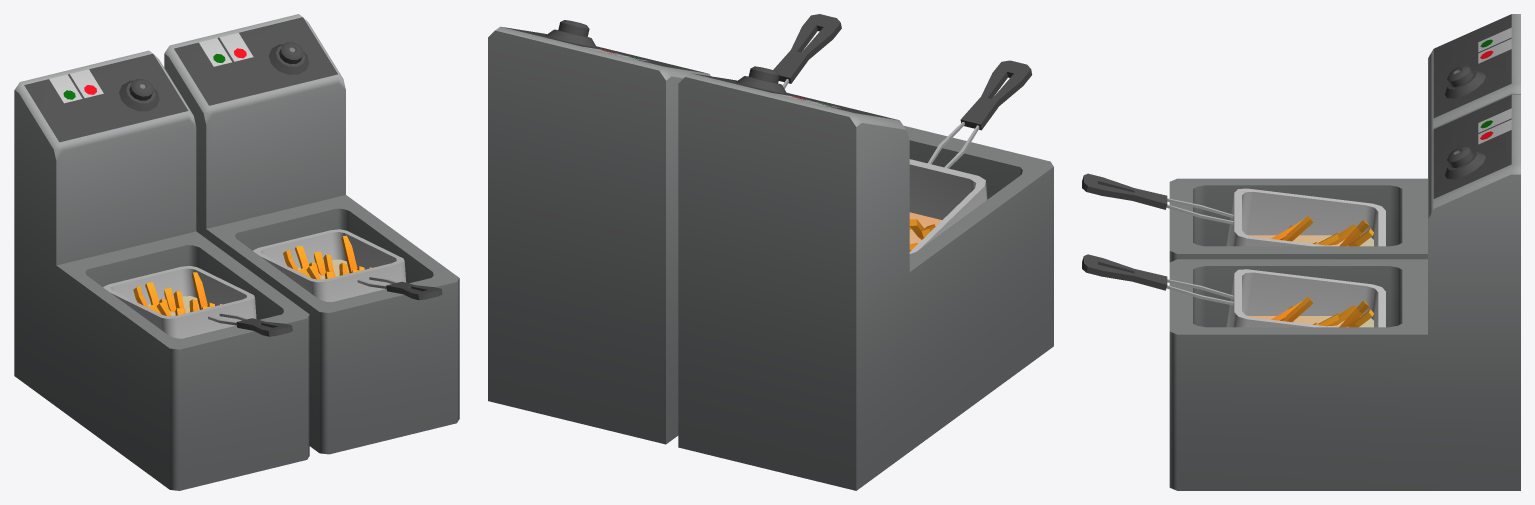
Rendered from Station Fries.fbx.
3 renders of one model, left to right at view 1: azimuth 30°, elevation 25°; view 2: azimuth 150°, elevation 25°; view 3: azimuth 270°, elevation 25°, orthographic. The views are drawn at different scales.
Parts seen in each view (by area): view 1: Station_Fries; view 2: Station_Fries; view 3: Station_Fries.
Boxes of the visible parts, left/top/right/bottom form: Station_Fries: left=14, top=14, right=459, bottom=490; Station_Fries: left=488, top=14, right=1053, bottom=490; Station_Fries: left=1082, top=14, right=1520, bottom=490.
Bounding box in the file's own units: 182 × 175 × 216.
